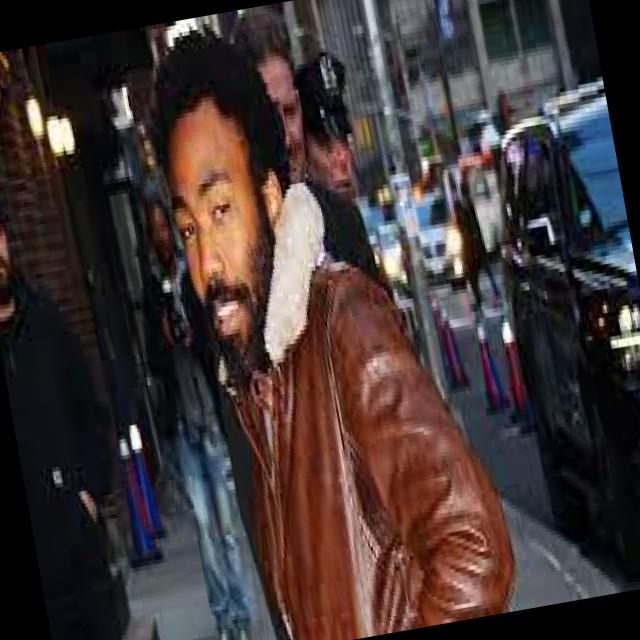Jacket: (185, 265, 528, 640), (0, 274, 150, 640), (120, 237, 238, 466)
